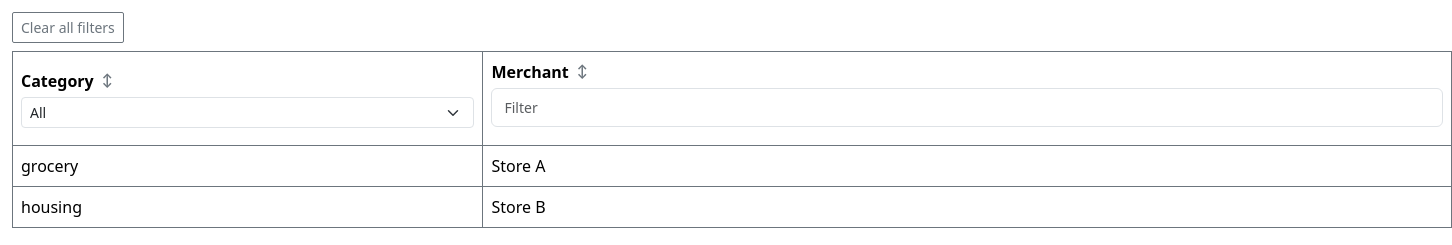
Test: VueDataTable column filters › filters rows by exact match when an option is selected
Select "Housing" in the dropdown named "Filter by Category" at (248, 112), box [21,97,474,128]
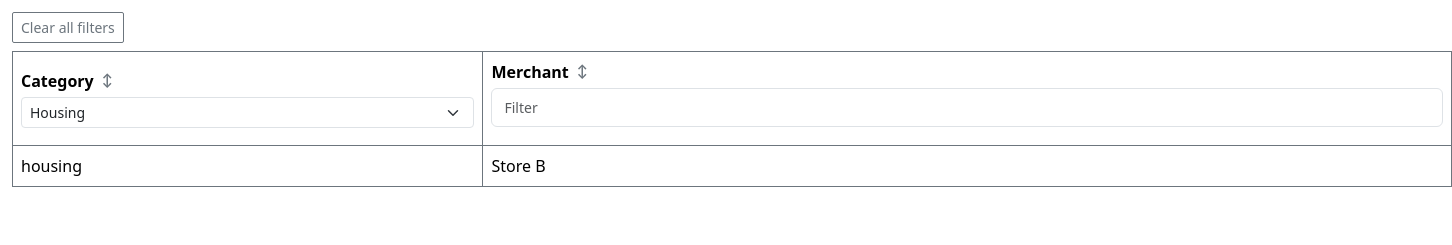
Expected: the text "Store B" is shown, [483,146,1451,186]
Expected: the text "Store A" is gone
